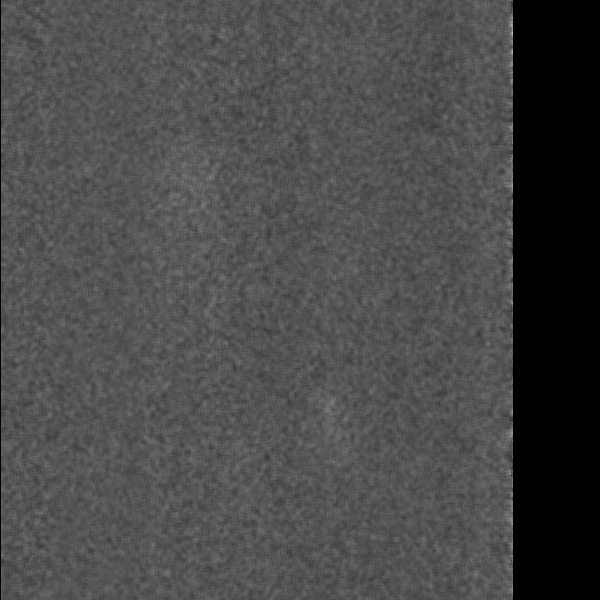spark: (312, 389, 341, 417)
